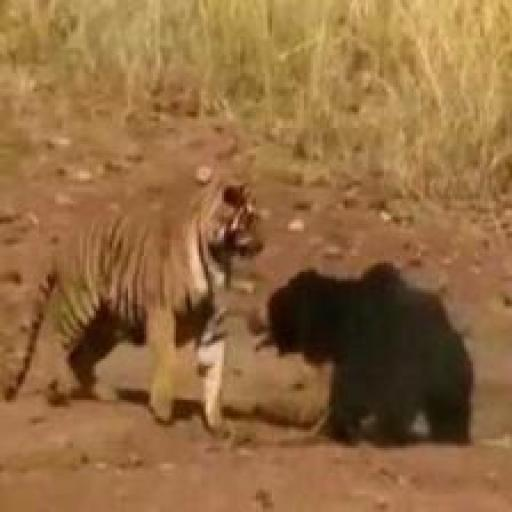Tiger: (7, 167, 267, 436)
